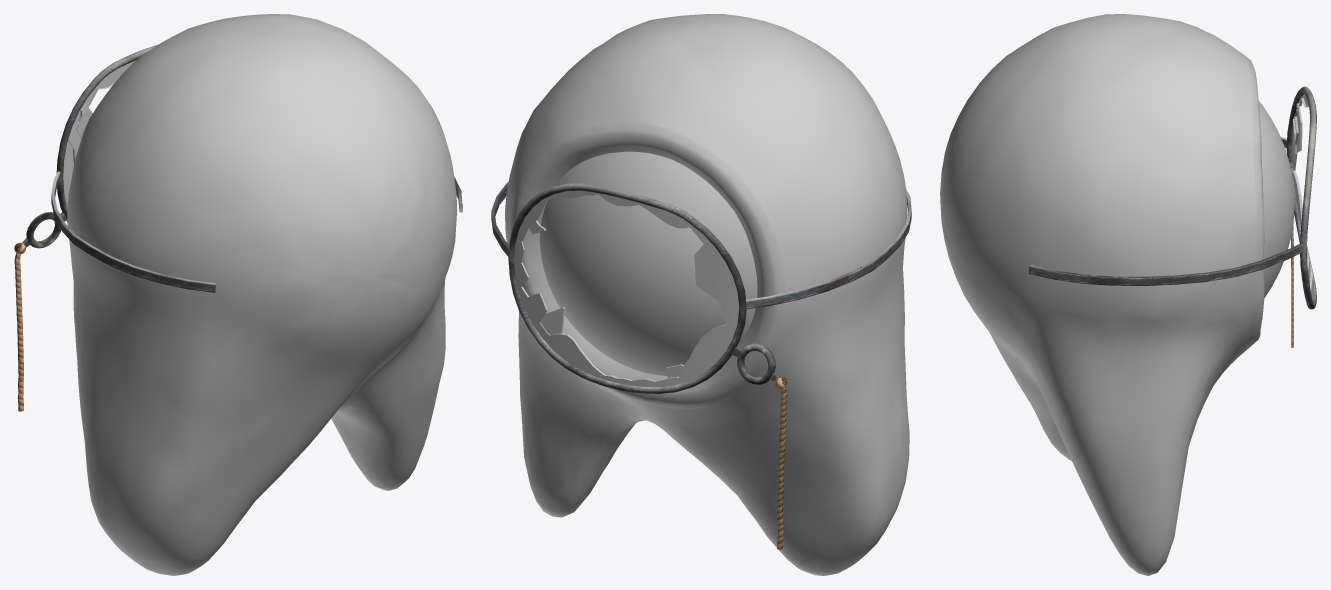
Rendered from EyeMonsterFull_001.FBX.
The picture shows the model from 3 angles, left to right: view 1: azimuth 30°, elevation 25°; view 2: azimuth 150°, elevation 25°; view 3: azimuth 270°, elevation 25°; orthographic projection. The views are drawn at different scales.
Visible parts, largest first — view 1: lib_monster_eye, lib_monster_glasses, lib_monster_glass, lib_monster_rope; view 2: lib_monster_eye, lib_eye_pupil, lib_monster_glass, lib_monster_glasses, lib_monster_rope; view 3: lib_monster_eye, lib_monster_glasses, lib_eye_pupil, lib_monster_glass.
Boxes of the visible parts, left/top/right/bottom form: lib_monster_eye: left=67, top=14, right=457, bottom=575; lib_monster_glasses: left=22, top=45, right=462, bottom=292; lib_monster_glass: left=63, top=60, right=135, bottom=206; lib_monster_rope: left=14, top=242, right=25, bottom=411; lib_monster_eye: left=505, top=14, right=909, bottom=575; lib_eye_pupil: left=539, top=151, right=757, bottom=375; lib_monster_glass: left=514, top=190, right=739, bottom=387; lib_monster_glasses: left=491, top=182, right=911, bottom=393; lib_monster_rope: left=774, top=377, right=787, bottom=550; lib_monster_eye: left=940, top=14, right=1264, bottom=575; lib_monster_glasses: left=1029, top=86, right=1316, bottom=309; lib_eye_pupil: left=1258, top=101, right=1294, bottom=297; lib_monster_glass: left=1292, top=94, right=1314, bottom=301.
Size of the model in its own units: 107 by 104 by 147.
